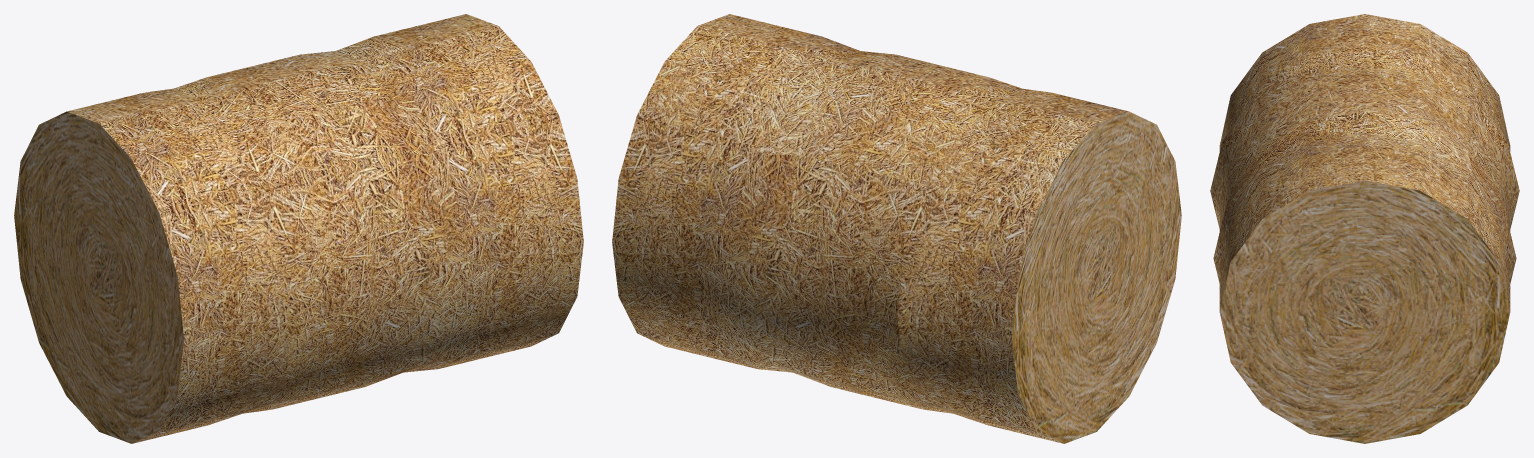
File: Feno 2.fbx
3 renders of one model, left to right at view 1: azimuth 30°, elevation 25°; view 2: azimuth 150°, elevation 25°; view 3: azimuth 270°, elevation 25°, orthographic. The views are drawn at different scales.
Visible parts, largest first — view 1: Feno 2; view 2: Feno 2; view 3: Feno 2.
Boxes of the visible parts, x1=… form: Feno 2: x1=14, y1=14, x2=583, y2=443; Feno 2: x1=612, y1=14, x2=1181, y2=443; Feno 2: x1=1210, y1=14, x2=1519, y2=443.
Size of the model in its own units: 100 by 73.78 by 78.58.
